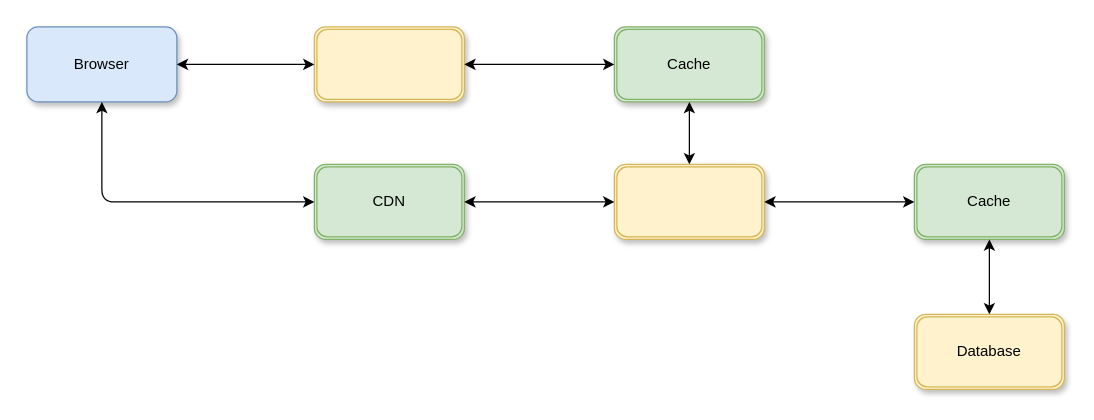
Some shapes in this 1094 by 420 pixel diagram are drawn without their labels. Each missing label, with the centre of its shape:
Program: the point at 690,203
Server: the point at 390,66
